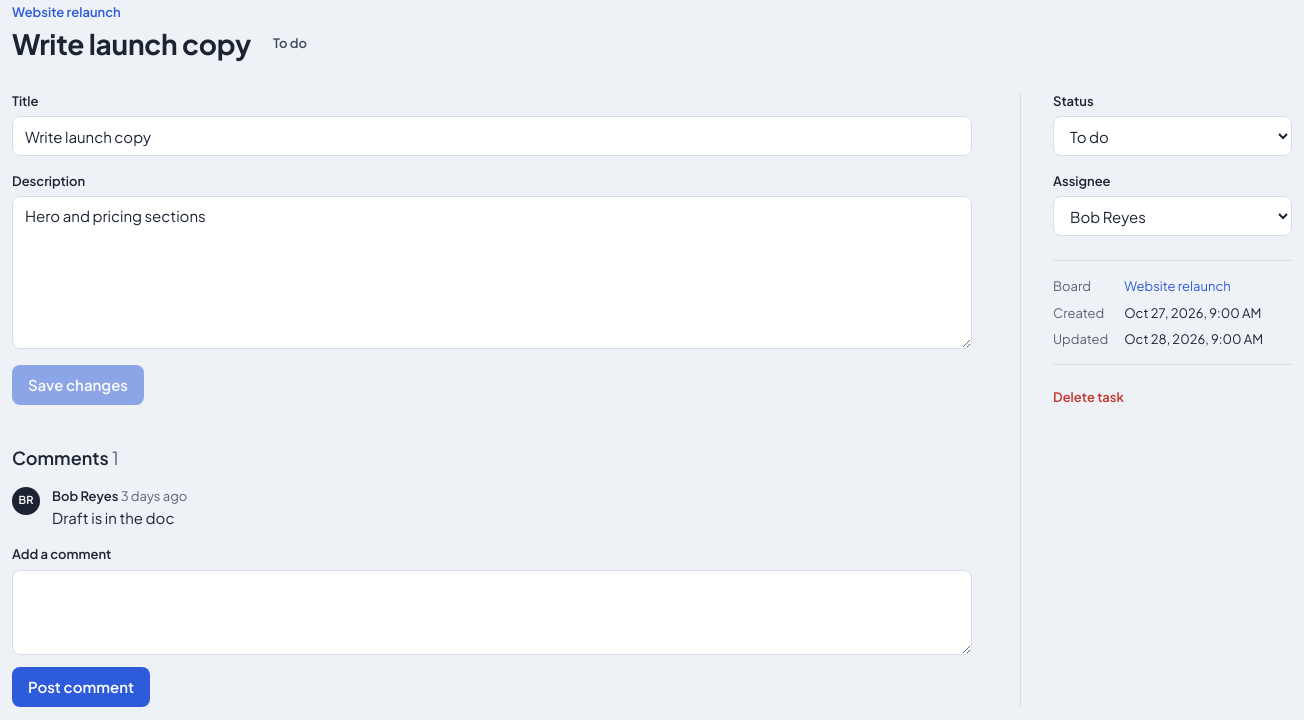
Test: TaskDetail › shows the task and posts a comment after the existing ones
expect the heading "Write launch copy" is shown: met, box [12,26,251,60]
expect the text box labelled "Description" holds "Hero and pricing sections": met, box [12,196,972,350]
Type "Looks good to me" into the text box labelled "Add a comment" at (492,612), box [12,570,972,655]
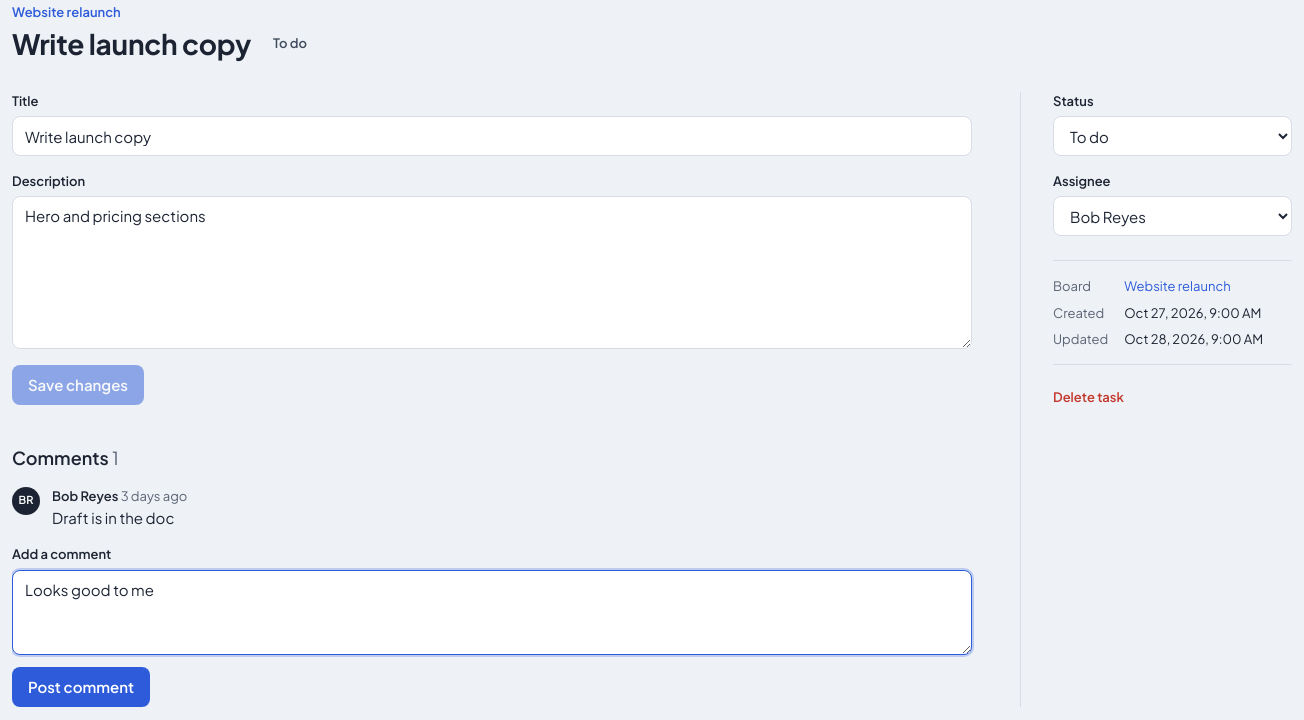
Click the button "Post comment" at (81,687), box [12,667,150,707]
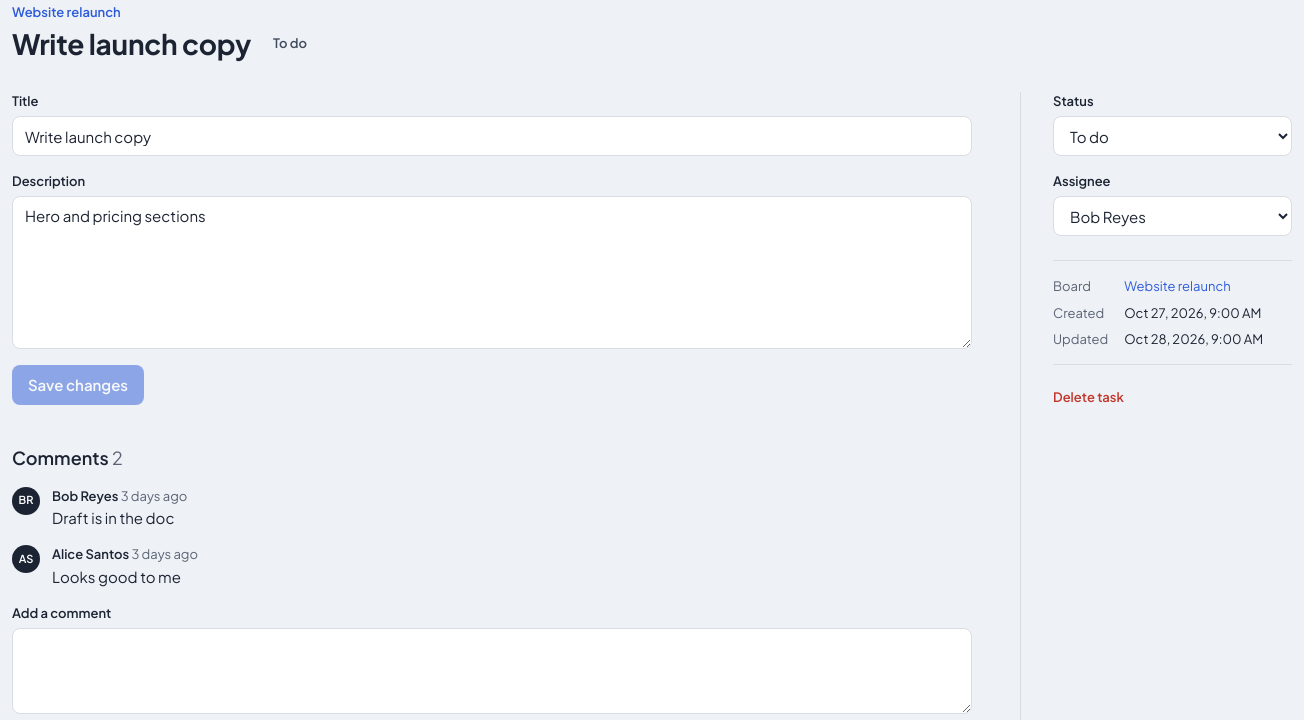
expect the number of list items is 2: met, box [12,487,187,527]; [12,545,198,586]
expect the list item that starts with "Alice Santos" is shown: met, box [52,546,129,562]
expect the text box labelled "Add a comment" is empty: met, box [12,628,972,714]
